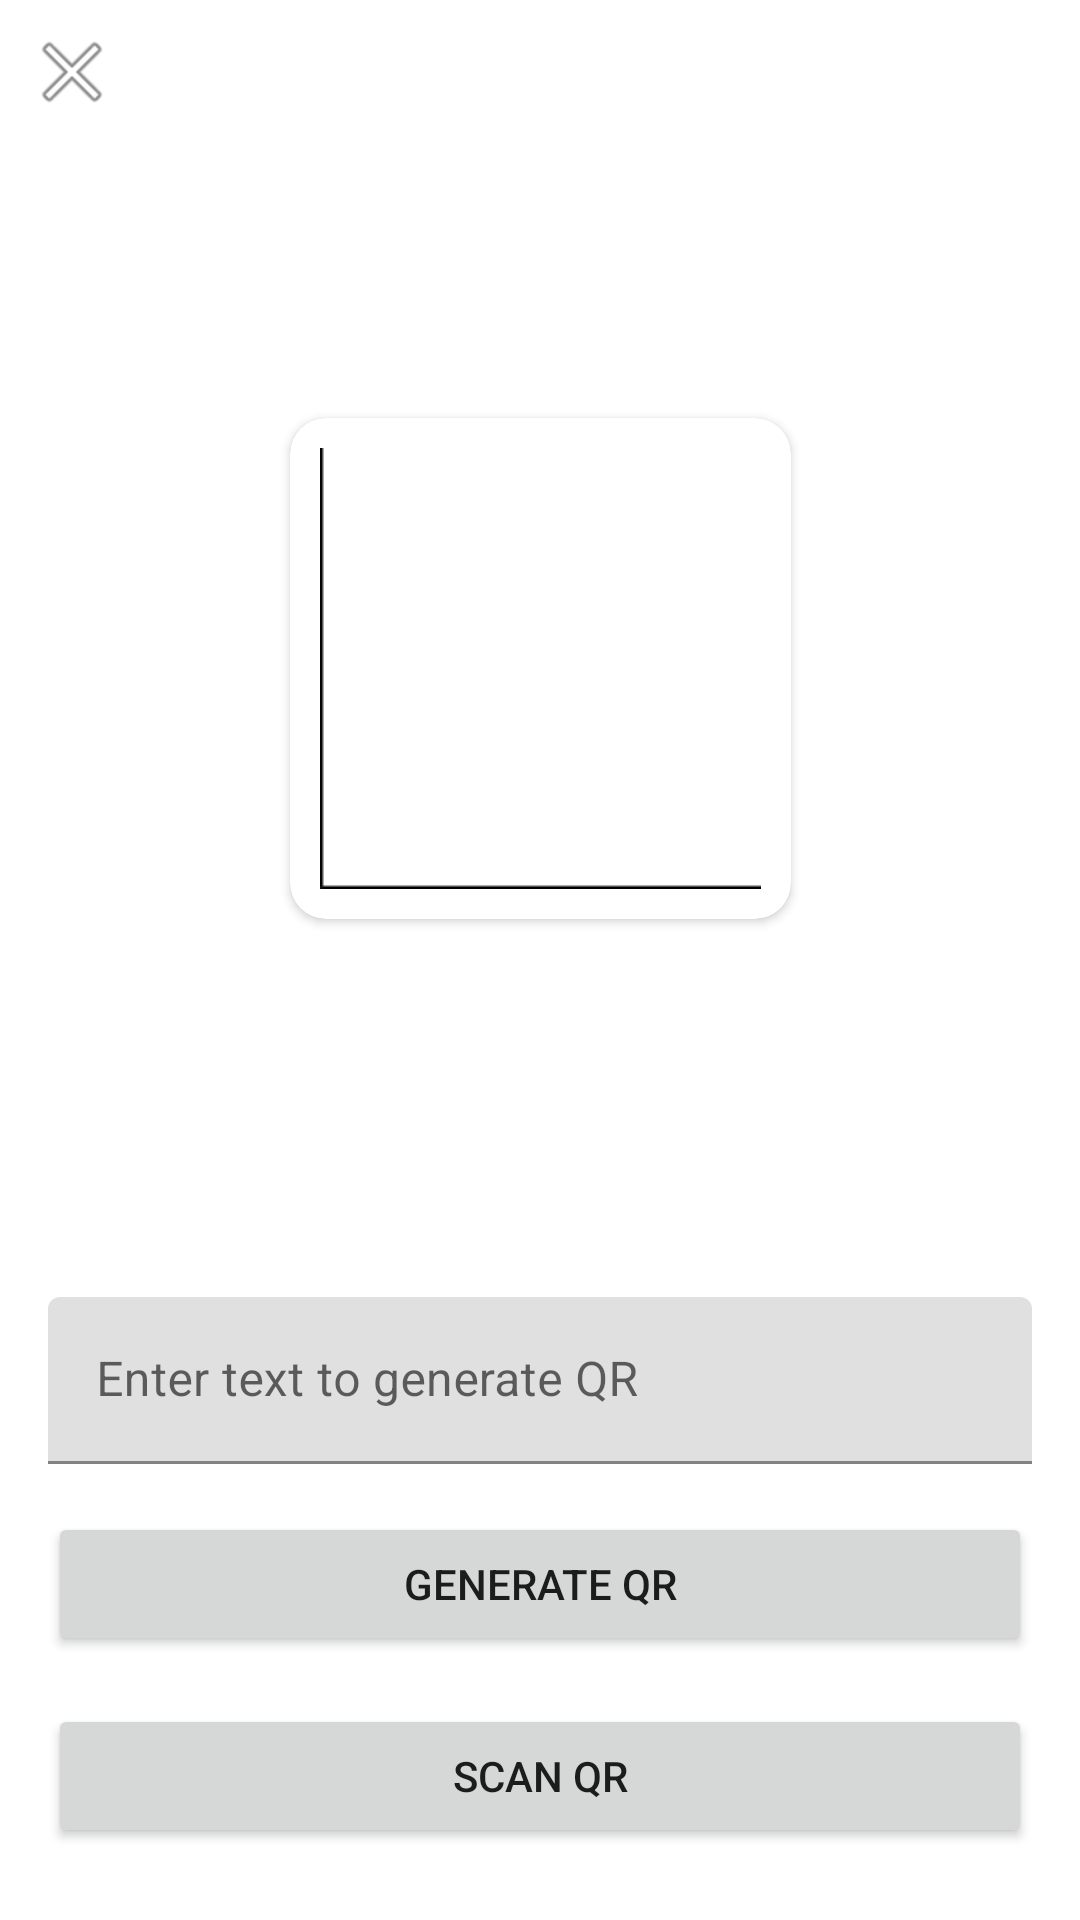

Where icons sit on this 1080px×1920px app screen, as bbox(x1, y1, x2, y2):
Close button: bbox(42, 42, 102, 102)
